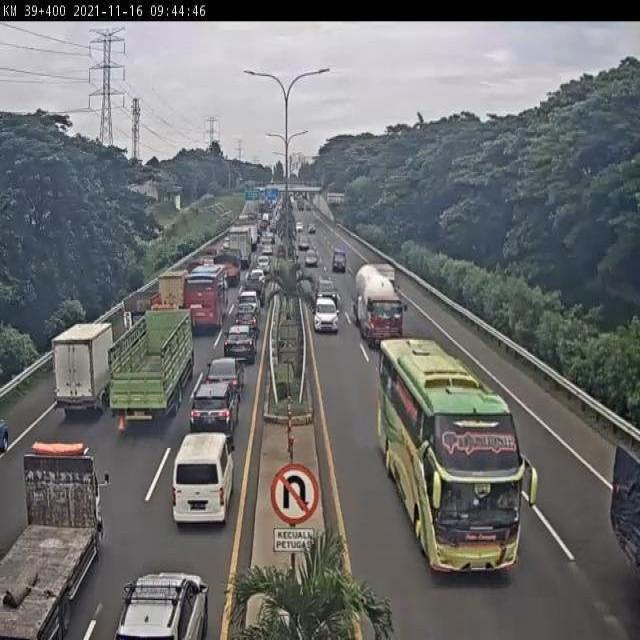car: (188, 383, 236, 447), (204, 361, 245, 403), (221, 329, 253, 368), (312, 296, 338, 329), (232, 308, 259, 335), (236, 288, 261, 316)
truck: (376, 339, 539, 571), (0, 441, 113, 640), (111, 315, 197, 431), (170, 431, 233, 527), (54, 321, 115, 420), (355, 264, 407, 355), (184, 267, 227, 332), (118, 289, 161, 332), (154, 268, 187, 315)
